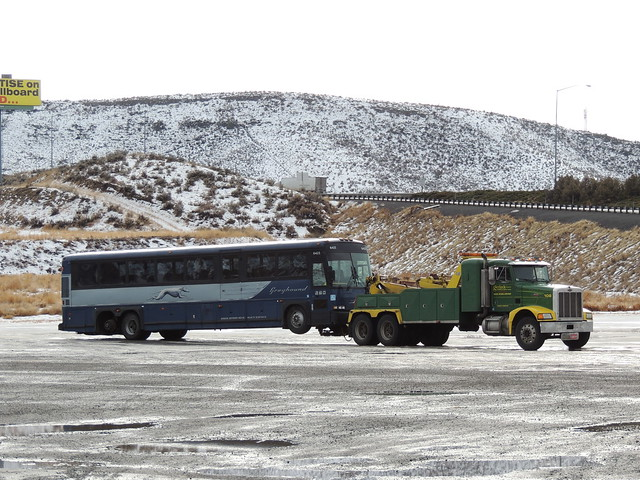bus: (57, 238, 371, 341)
